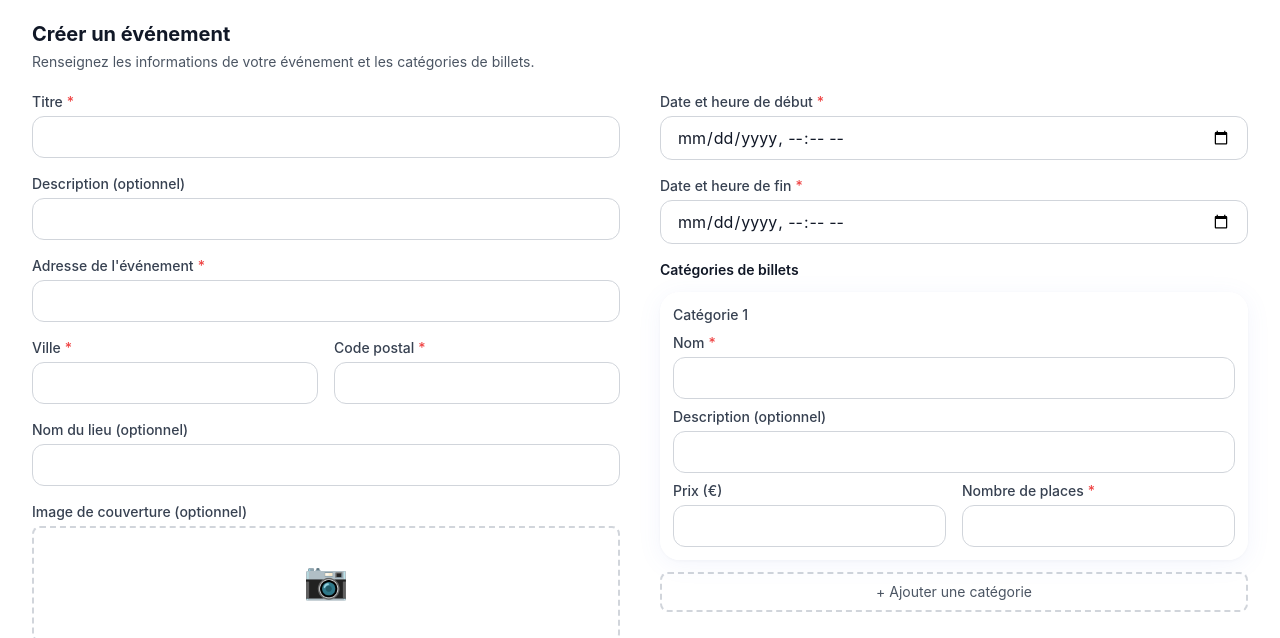
Scenario: CreateEventPage - ticket categories management › adds and removes ticket categories
Expected: the text "Catégorie 1" is shown, x1=673 y1=305 x2=748 y2=325
Expected: the text "Catégorie 2" is not shown
Click the button with aria-label "Ajouter une catégorie de billets" at (954, 592), box x1=660 y1=572 x2=1248 y2=612
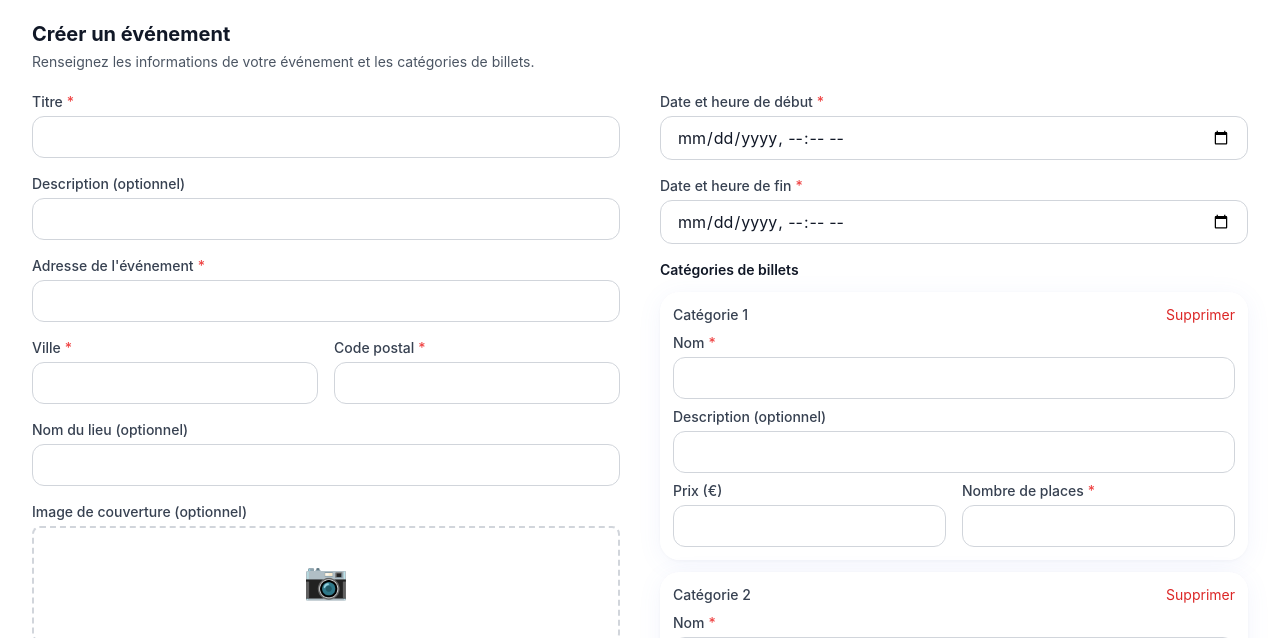
Expected: the text "Catégorie 2" is shown, x1=673 y1=585 x2=751 y2=605
Click the button with aria-label "Supprimer la catégorie 2" at (1201, 595), box x1=1166 y1=585 x2=1235 y2=605
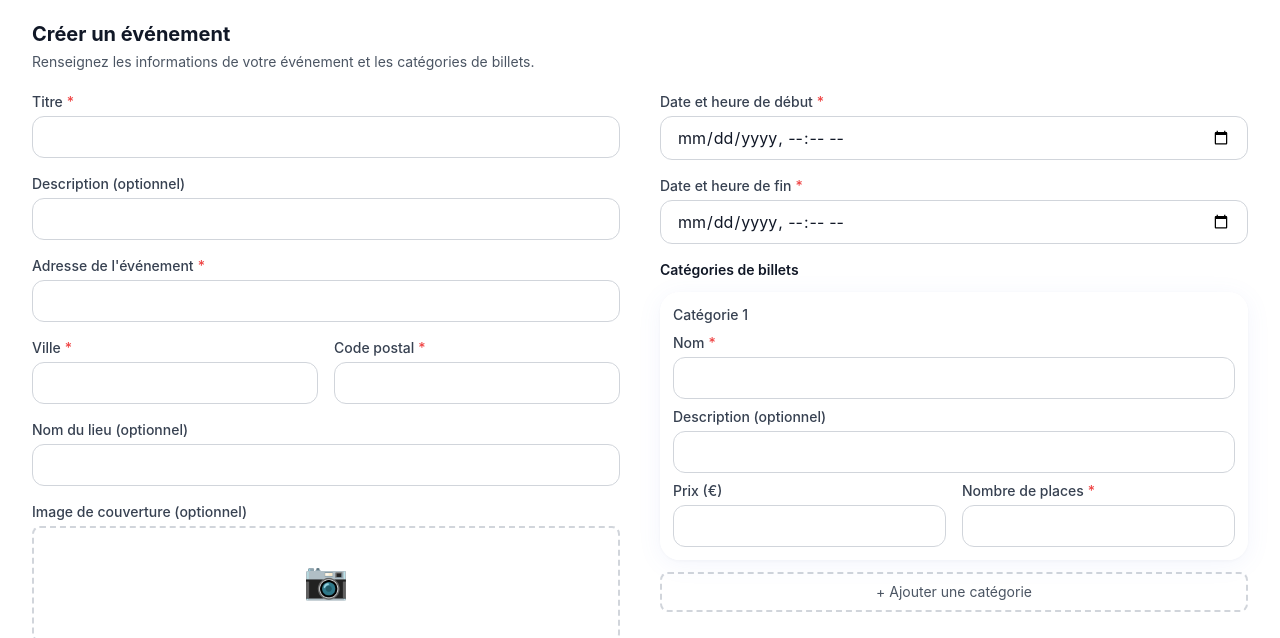
Expected: the text "Catégorie 2" is gone
